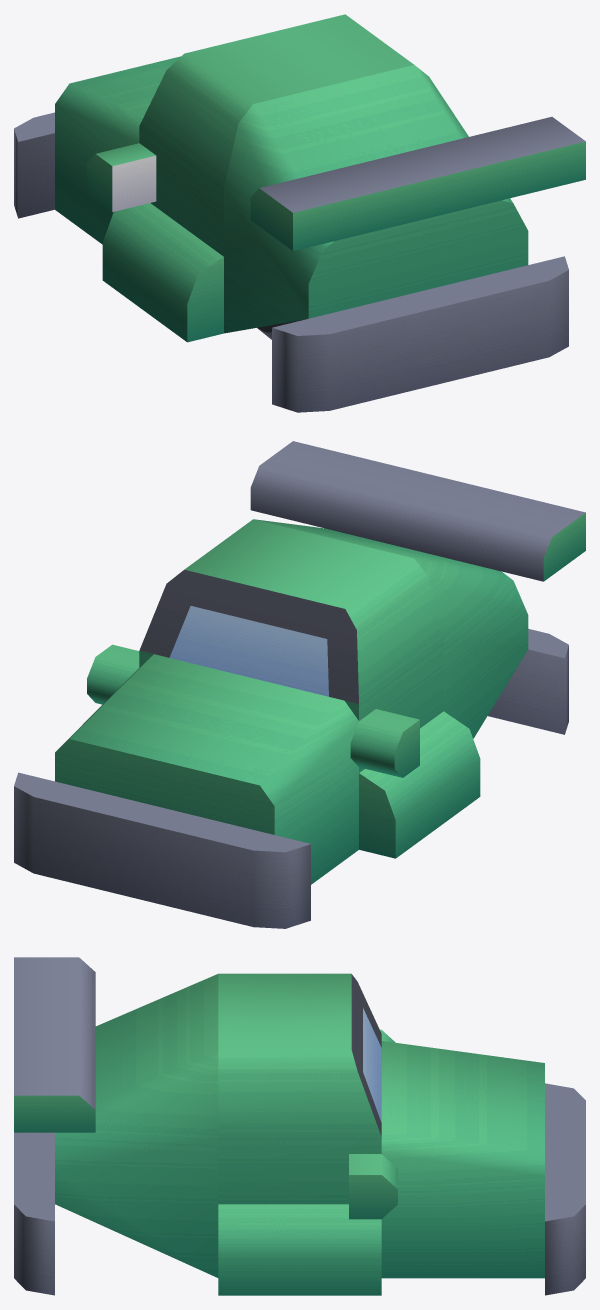
Rendered from vehicle-racer.glb.
The picture shows the model from 3 angles, top to bottom: view 1: azimuth 30°, elevation 25°; view 2: azimuth 150°, elevation 25°; view 3: azimuth 270°, elevation 25°; orthographic projection. The views are drawn at different scales.
Visible parts, largest first — view 1: vehicle-racer; view 2: vehicle-racer; view 3: vehicle-racer.
Boxes of the visible parts, <box> form: vehicle-racer: <box>14,14,585,412</box>; vehicle-racer: <box>14,441,585,928</box>; vehicle-racer: <box>14,957,585,1295</box>.
Bounding box in the file's own units: 1.57 × 1.35 × 2.63.
1 material, 1 textured.
